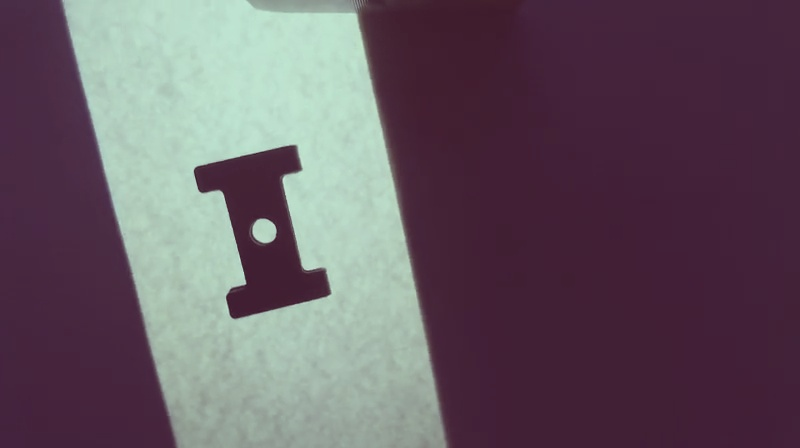O002: (185, 142, 335, 322)
